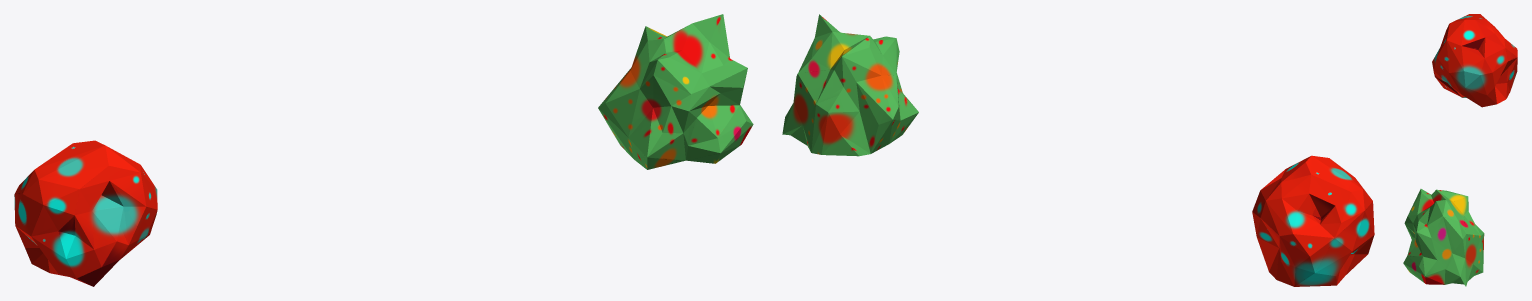
File: Fitxes 3x3_meteorits.fbx
3 renders of one model, left to right at view 1: azimuth 30°, elevation 25°; view 2: azimuth 150°, elevation 25°; view 3: azimuth 270°, elevation 25°, orthographic. The views are drawn at different scales.
Visible parts, largest first — view 1: 3x3_FITXA_VERDA, 3x3_FITXA_VERMELLA; view 2: 3x3_FITXA_VERDA, 3x3_FITXA_VERMELLA; view 3: 3x3_FITXA_VERDA, 3x3_FITXA_VERMELLA.
Part boxes in pixels (x1,y1,x2,y2): 3x3_FITXA_VERDA: (598, 14, 753, 169); 3x3_FITXA_VERMELLA: (14, 140, 157, 286); 3x3_FITXA_VERDA: (782, 14, 918, 156); 3x3_FITXA_VERMELLA: (1252, 155, 1374, 286); 3x3_FITXA_VERDA: (1403, 189, 1484, 286); 3x3_FITXA_VERMELLA: (1432, 14, 1517, 107).
Size of the model in its own units: 23.89 by 4.21 by 5.46.
